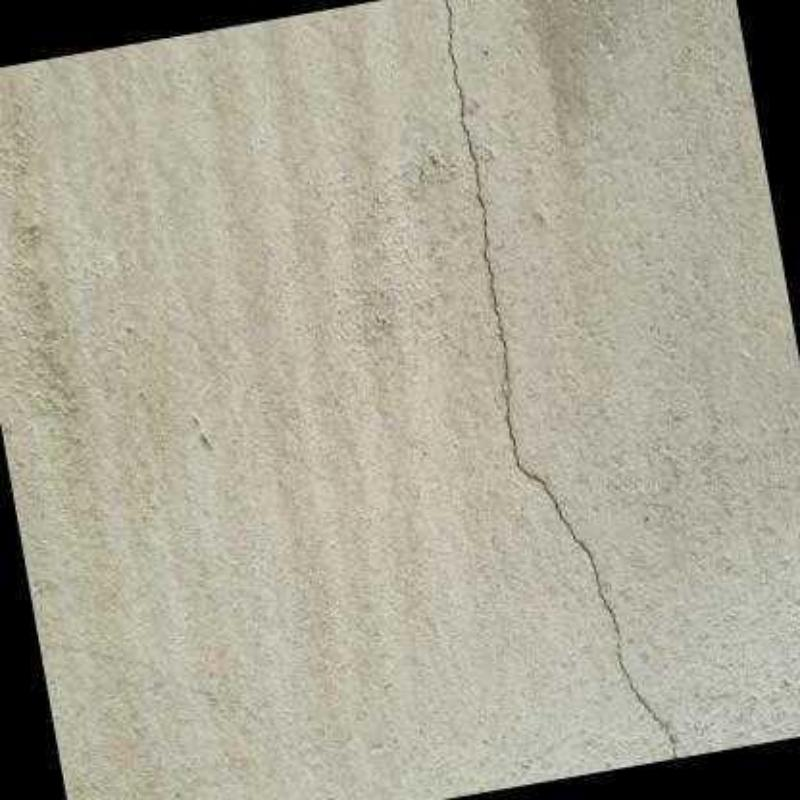crack: (445, 2, 675, 760)
